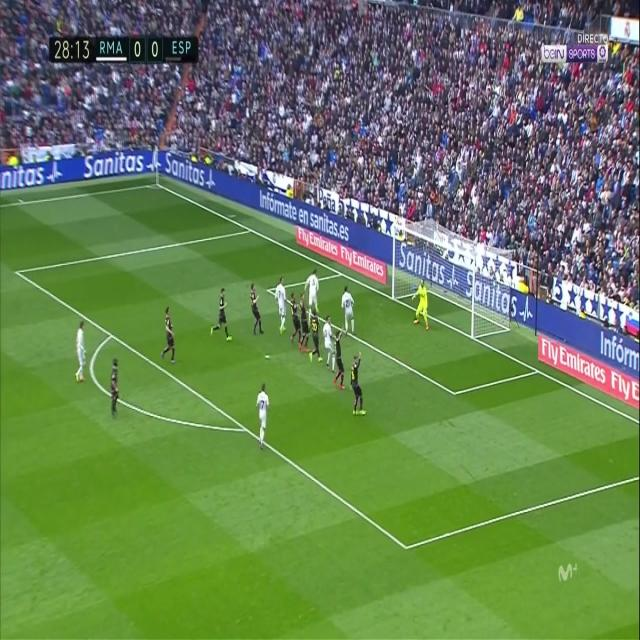Goalkeeper: (410, 276, 430, 332)
Player: (209, 286, 234, 343), (349, 349, 368, 420), (72, 317, 89, 388), (256, 382, 272, 452), (161, 303, 178, 367), (321, 312, 338, 376), (333, 324, 347, 397), (308, 305, 324, 367), (249, 280, 265, 340), (272, 277, 288, 337), (304, 267, 322, 320), (340, 284, 356, 338), (288, 291, 302, 348), (300, 291, 312, 357), (110, 356, 121, 420)
